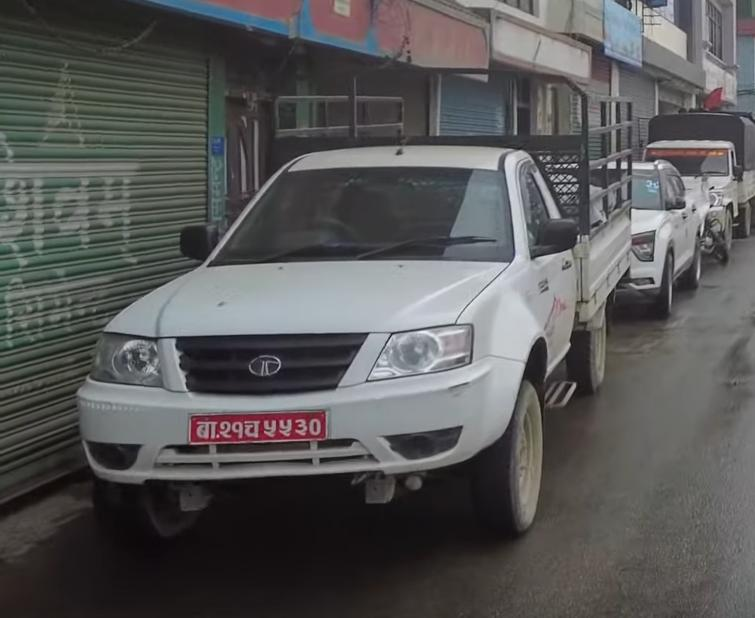car: (603, 142, 706, 328)
transport_vehicle: (52, 62, 641, 548), (633, 85, 755, 245)
